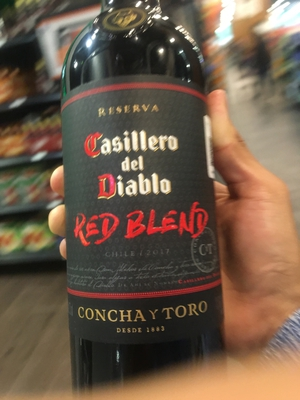casillero del diablo red blend: (55, 9, 233, 396)
